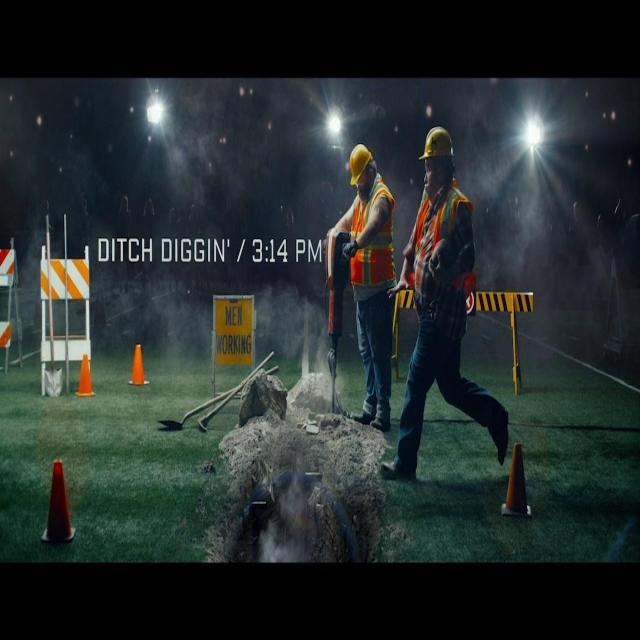helmet: (414, 130, 458, 173), (341, 142, 377, 192)
vest: (414, 177, 473, 321), (348, 182, 394, 297)
